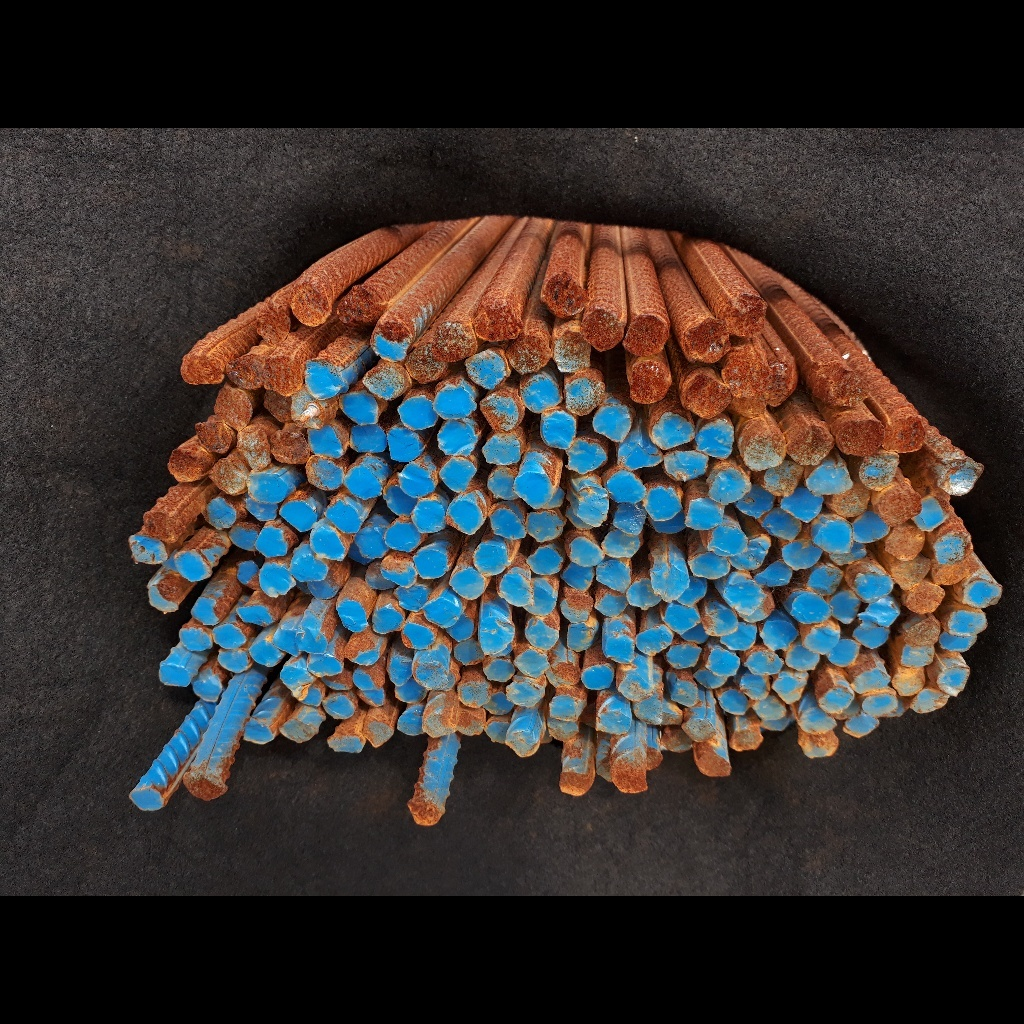dipstick: (542, 272, 586, 316), (685, 377, 729, 419), (563, 369, 603, 415), (787, 426, 833, 465), (291, 282, 330, 327), (625, 315, 667, 356), (687, 320, 728, 362), (834, 420, 883, 455), (741, 431, 786, 469), (466, 350, 507, 391), (630, 362, 670, 404), (727, 294, 765, 338), (405, 343, 445, 384), (336, 288, 381, 324), (876, 488, 921, 524), (264, 356, 304, 396), (447, 495, 487, 535), (582, 311, 623, 350), (508, 335, 551, 372), (721, 361, 769, 394), (828, 370, 870, 407), (306, 357, 342, 400), (371, 321, 410, 360), (437, 322, 477, 360), (209, 456, 247, 496), (363, 367, 408, 400), (652, 415, 695, 449), (522, 376, 561, 413), (555, 332, 591, 372), (214, 389, 250, 429), (438, 420, 478, 456), (237, 429, 271, 471), (435, 387, 477, 421), (883, 418, 925, 452), (290, 387, 323, 430), (939, 463, 983, 495), (345, 463, 383, 500), (291, 545, 328, 583), (412, 651, 450, 688), (305, 456, 345, 491), (356, 516, 388, 559), (808, 463, 851, 495), (481, 396, 519, 432), (593, 405, 631, 441), (515, 472, 551, 510), (652, 567, 690, 603), (861, 453, 899, 489), (476, 309, 520, 340), (168, 449, 209, 482), (128, 535, 170, 567), (731, 537, 769, 572), (180, 356, 224, 386), (762, 510, 803, 542), (398, 396, 434, 432), (541, 411, 576, 448), (438, 458, 476, 492), (182, 772, 228, 800), (567, 441, 606, 474), (709, 470, 749, 502), (791, 593, 831, 625), (227, 354, 263, 389), (727, 578, 762, 614), (256, 309, 290, 346), (272, 430, 309, 464), (481, 618, 515, 655), (645, 486, 682, 520), (885, 527, 923, 560), (340, 392, 379, 424), (685, 498, 724, 530), (664, 452, 708, 480), (699, 422, 733, 458), (400, 463, 437, 496), (247, 472, 286, 503), (260, 564, 295, 598), (618, 444, 662, 471), (769, 363, 796, 407), (526, 511, 564, 542), (607, 472, 645, 503), (934, 531, 972, 562), (383, 478, 412, 518), (196, 420, 231, 453), (308, 425, 343, 458), (389, 426, 422, 461), (281, 499, 316, 532), (176, 551, 212, 583), (490, 508, 526, 540), (450, 567, 486, 599), (765, 464, 802, 495), (579, 487, 608, 526), (906, 585, 945, 614), (310, 526, 344, 559), (143, 511, 178, 543), (761, 620, 796, 652), (816, 521, 852, 552), (917, 496, 950, 529), (596, 560, 631, 591), (736, 487, 772, 517), (783, 541, 820, 570), (861, 599, 899, 627), (482, 436, 521, 463), (424, 598, 459, 628), (834, 486, 869, 516), (852, 514, 887, 544), (350, 426, 387, 454), (532, 578, 559, 616), (964, 580, 1002, 607), (798, 734, 839, 759), (614, 503, 646, 535), (412, 501, 445, 532), (475, 542, 506, 575), (526, 620, 559, 651), (905, 615, 939, 645), (382, 559, 417, 588), (663, 604, 698, 633), (707, 530, 747, 555), (190, 671, 220, 704), (413, 549, 446, 579), (501, 573, 531, 606), (408, 797, 443, 825), (636, 627, 671, 655), (612, 766, 649, 792), (203, 497, 235, 527), (346, 635, 378, 665), (603, 635, 635, 665), (338, 599, 367, 632), (628, 579, 661, 608), (306, 572, 340, 600), (528, 547, 562, 575), (514, 649, 549, 676), (702, 609, 738, 635), (720, 623, 756, 649), (255, 527, 287, 556), (562, 594, 594, 623), (602, 532, 639, 557), (855, 575, 892, 600), (570, 538, 603, 566), (401, 622, 434, 650), (830, 592, 858, 625), (937, 665, 970, 693), (507, 682, 545, 706), (550, 695, 585, 721), (808, 568, 843, 594), (891, 560, 927, 585), (148, 584, 179, 613), (892, 666, 923, 695), (618, 673, 651, 700), (820, 686, 853, 713), (691, 555, 729, 578), (949, 612, 987, 635), (191, 596, 220, 626), (387, 524, 419, 551), (488, 467, 515, 499), (129, 788, 165, 812), (597, 710, 631, 735), (757, 561, 791, 586), (263, 392, 291, 422), (567, 623, 595, 653), (733, 393, 768, 417), (828, 639, 859, 666), (911, 690, 949, 712), (843, 717, 881, 739), (595, 591, 627, 617), (807, 626, 839, 652), (179, 627, 212, 652), (548, 662, 581, 687), (853, 671, 890, 693), (372, 606, 402, 633), (158, 663, 190, 688), (933, 563, 971, 584), (505, 732, 538, 756), (665, 646, 701, 668), (730, 728, 763, 752), (852, 669, 888, 691), (679, 577, 707, 605), (423, 714, 457, 737), (235, 605, 274, 625), (249, 641, 279, 667), (298, 629, 328, 655), (353, 665, 384, 690), (559, 771, 590, 796), (708, 650, 739, 675), (854, 627, 889, 649), (395, 586, 427, 610), (273, 629, 301, 656), (747, 654, 783, 675), (633, 699, 662, 725), (775, 677, 805, 702), (582, 665, 613, 689), (800, 714, 837, 734), (324, 696, 356, 719), (308, 656, 343, 677), (458, 710, 486, 736), (281, 720, 314, 742), (698, 755, 731, 777), (364, 721, 393, 746), (214, 626, 245, 649), (562, 567, 593, 590), (459, 683, 490, 706), (862, 695, 897, 715), (718, 691, 747, 715), (281, 666, 314, 687), (217, 650, 247, 673), (389, 656, 412, 686), (940, 633, 978, 651), (684, 719, 715, 741), (455, 640, 481, 666), (230, 524, 255, 551), (661, 728, 689, 752), (237, 560, 260, 589), (485, 659, 514, 682), (788, 647, 819, 668), (902, 645, 933, 666), (741, 675, 768, 699), (394, 682, 426, 702), (672, 681, 697, 706), (753, 698, 784, 718), (696, 669, 728, 688), (830, 549, 867, 565), (245, 722, 273, 743), (324, 671, 353, 691), (548, 721, 580, 739), (397, 713, 423, 735), (451, 616, 473, 640), (486, 720, 510, 742), (329, 737, 364, 752), (295, 688, 321, 708), (652, 518, 684, 534), (364, 560, 381, 590), (490, 692, 512, 715), (663, 702, 683, 725), (358, 690, 386, 706), (683, 628, 708, 644), (762, 718, 792, 731), (646, 747, 662, 770)
